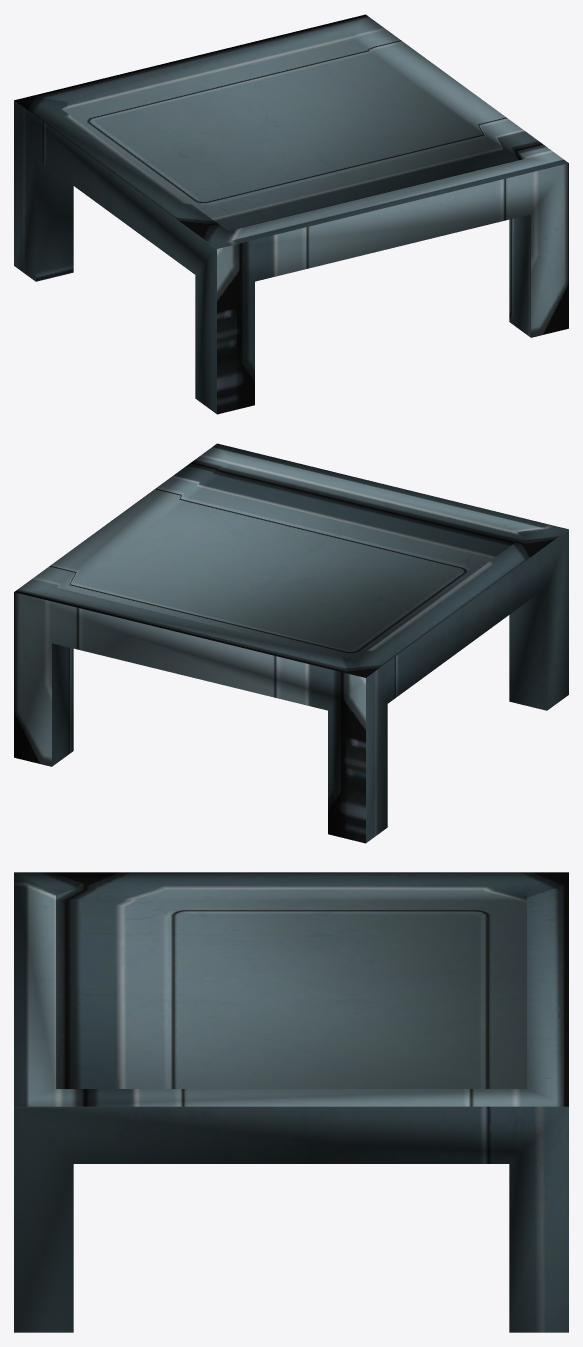
File: table1.glb
3 views of the same model, one above another, from view 1: azimuth 30°, elevation 25°; view 2: azimuth 150°, elevation 25°; view 3: azimuth 270°, elevation 25° (orthographic). The views are drawn at different scales.
Visible parts, largest first — view 1: Box12; view 2: Box12; view 3: Box12.
Part boxes in pixels (bbox=[...]): Box12: bbox=[14, 14, 568, 414]; Box12: bbox=[14, 443, 568, 843]; Box12: bbox=[14, 872, 568, 1332].
Size of the model in its own units: 49.38 by 22.19 by 49.38.
1 material, 1 textured.
